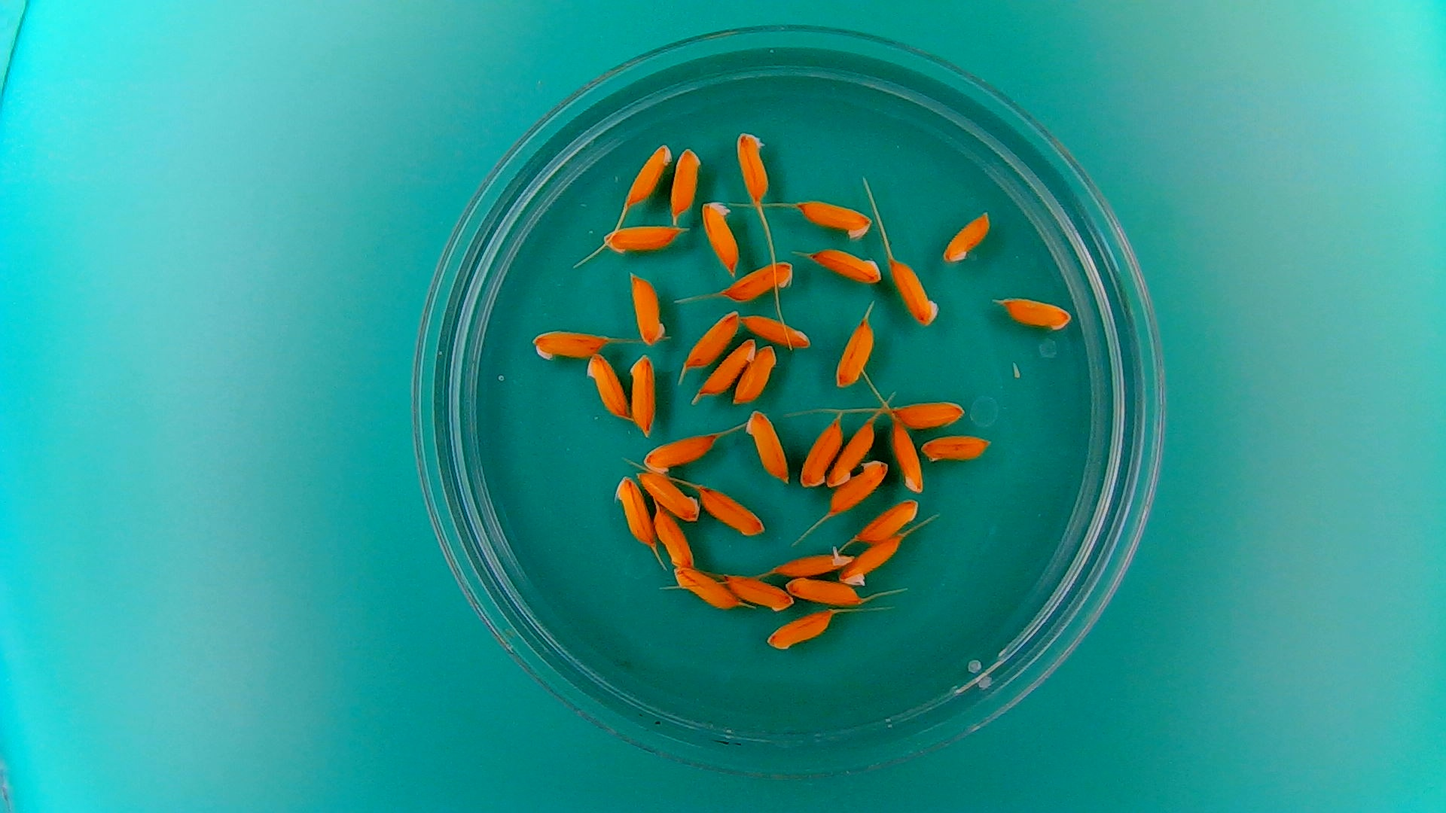no: (696, 481, 767, 539), (696, 336, 759, 399), (825, 415, 877, 488), (889, 255, 941, 328), (793, 195, 874, 241), (634, 467, 700, 523), (743, 406, 791, 483), (828, 455, 889, 515), (740, 310, 814, 358), (639, 430, 719, 474), (682, 308, 739, 369), (798, 415, 844, 490), (762, 605, 837, 651), (721, 258, 796, 302), (853, 497, 921, 545), (700, 197, 742, 274), (625, 141, 674, 206), (832, 315, 875, 389), (627, 269, 667, 348), (997, 292, 1074, 333), (613, 473, 655, 548), (671, 564, 738, 611), (584, 350, 629, 419), (807, 245, 884, 285), (721, 572, 794, 614), (528, 326, 612, 362), (603, 221, 686, 257), (940, 209, 993, 265), (731, 341, 777, 405), (649, 505, 694, 570), (889, 417, 925, 495), (781, 574, 863, 608), (735, 128, 772, 202), (667, 144, 702, 220), (627, 350, 657, 436), (920, 432, 994, 465), (893, 397, 966, 429)
yes: (839, 534, 905, 588), (768, 544, 856, 578)
